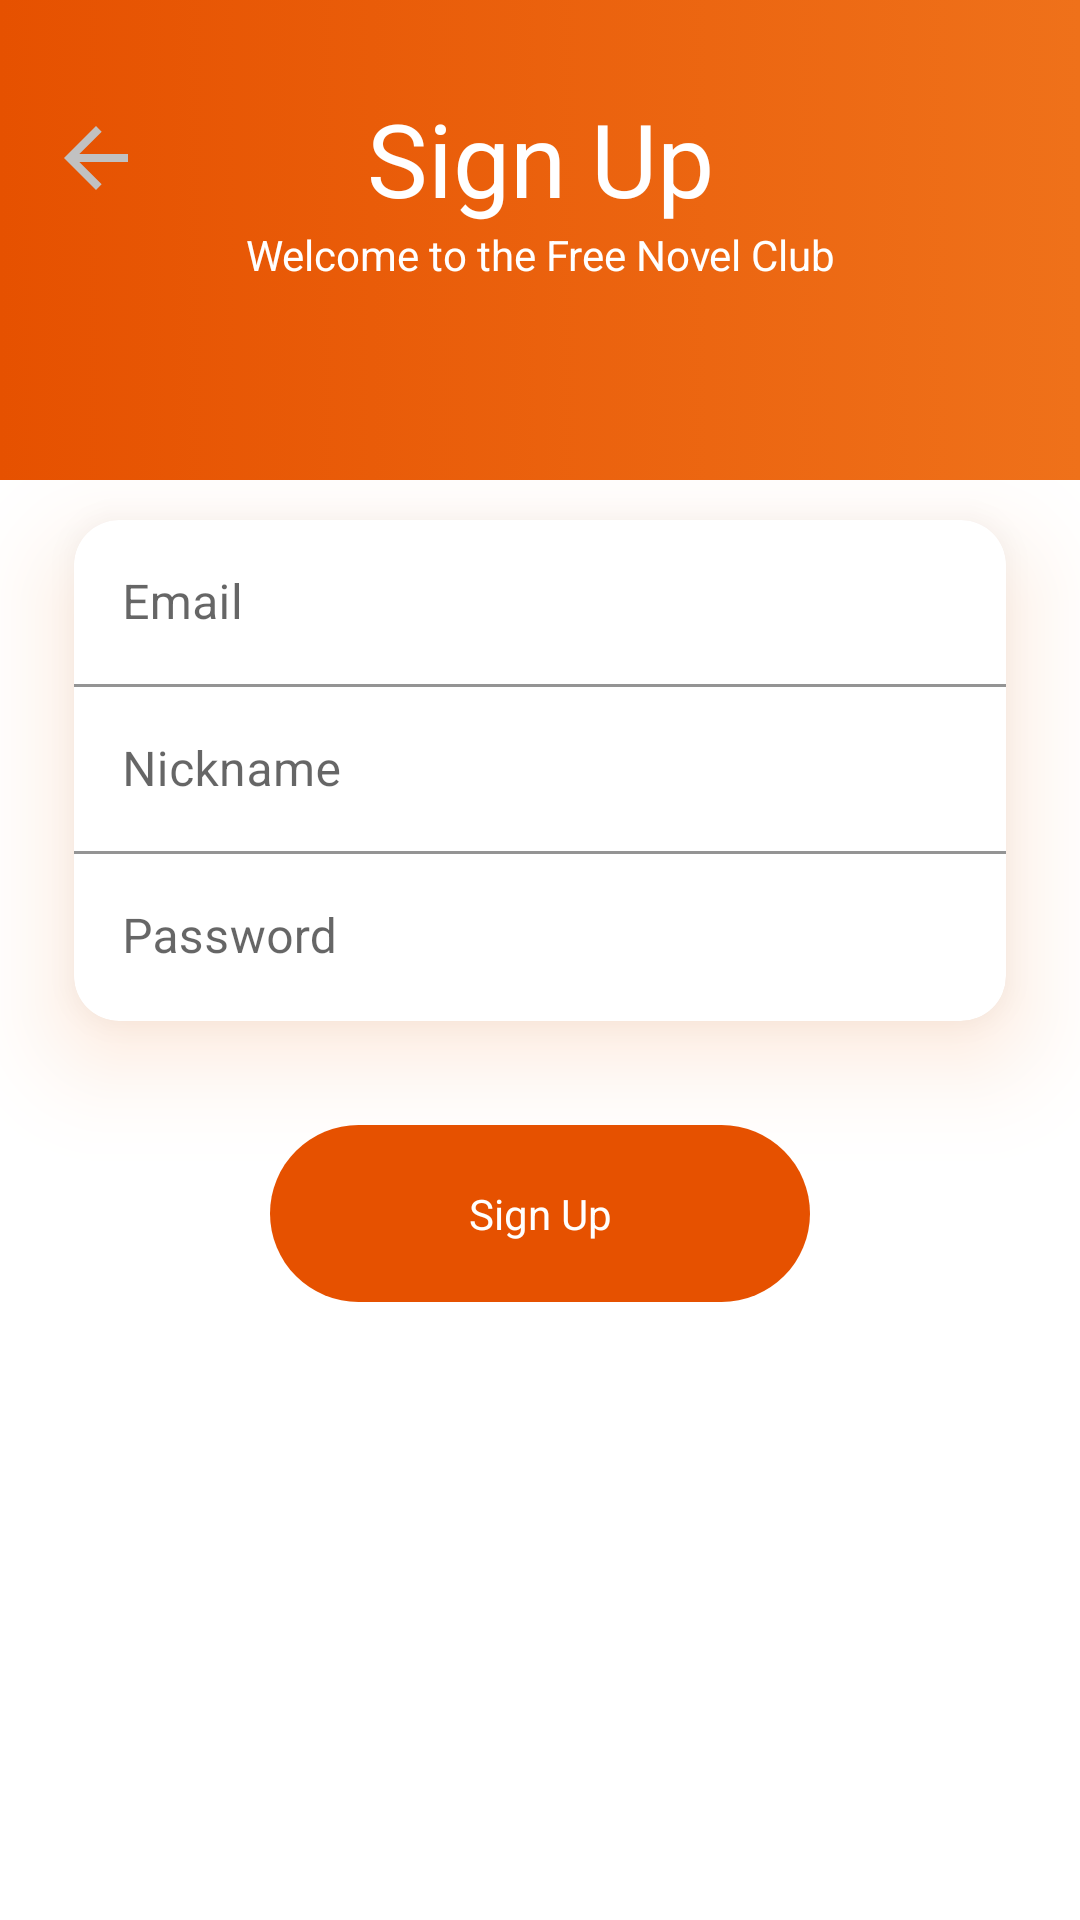

Point at icon controls on the screen. Image size 1080px x 1920px, points as [x,y].
arrow back: [96,158]
